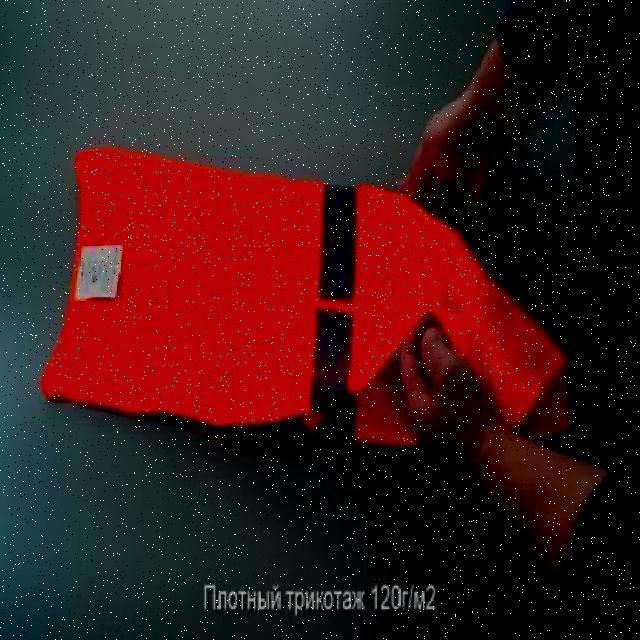Mask: (38, 146, 571, 448)
